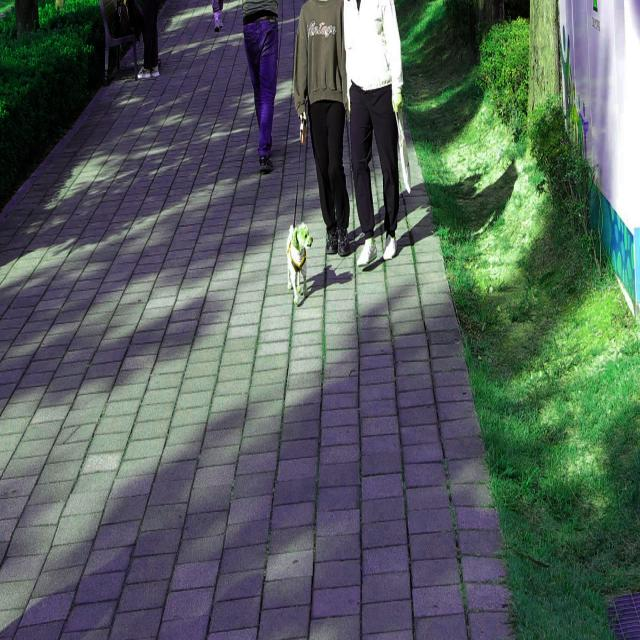Leashed_Dog: (286, 99, 328, 306)
